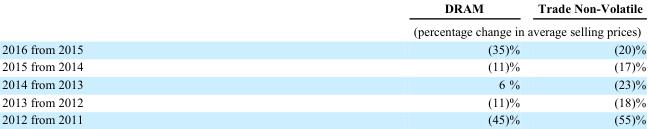table: (1, 0, 645, 125)
table column: (247, 0, 527, 125), (1, 0, 247, 125), (527, 0, 645, 125)
table column header: (1, 0, 645, 39)
table row: (1, 19, 645, 39), (1, 0, 645, 19), (1, 39, 645, 57), (1, 74, 645, 92), (1, 92, 645, 110), (1, 57, 645, 74), (1, 110, 645, 125)
table spanning cell: (247, 19, 645, 39)
